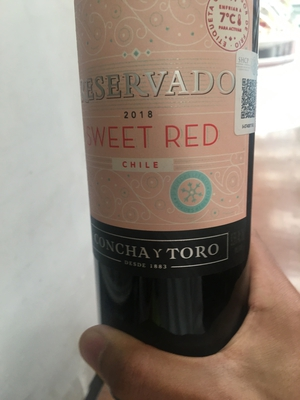reservado sweet red: (69, 4, 265, 359)
